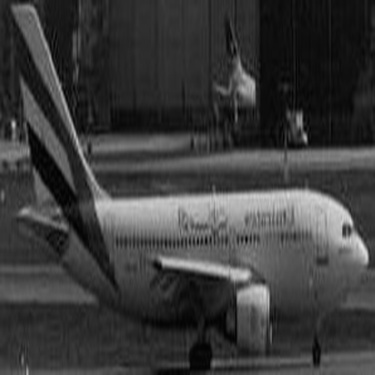airplane: (9, 5, 370, 370), (168, 10, 289, 143)
